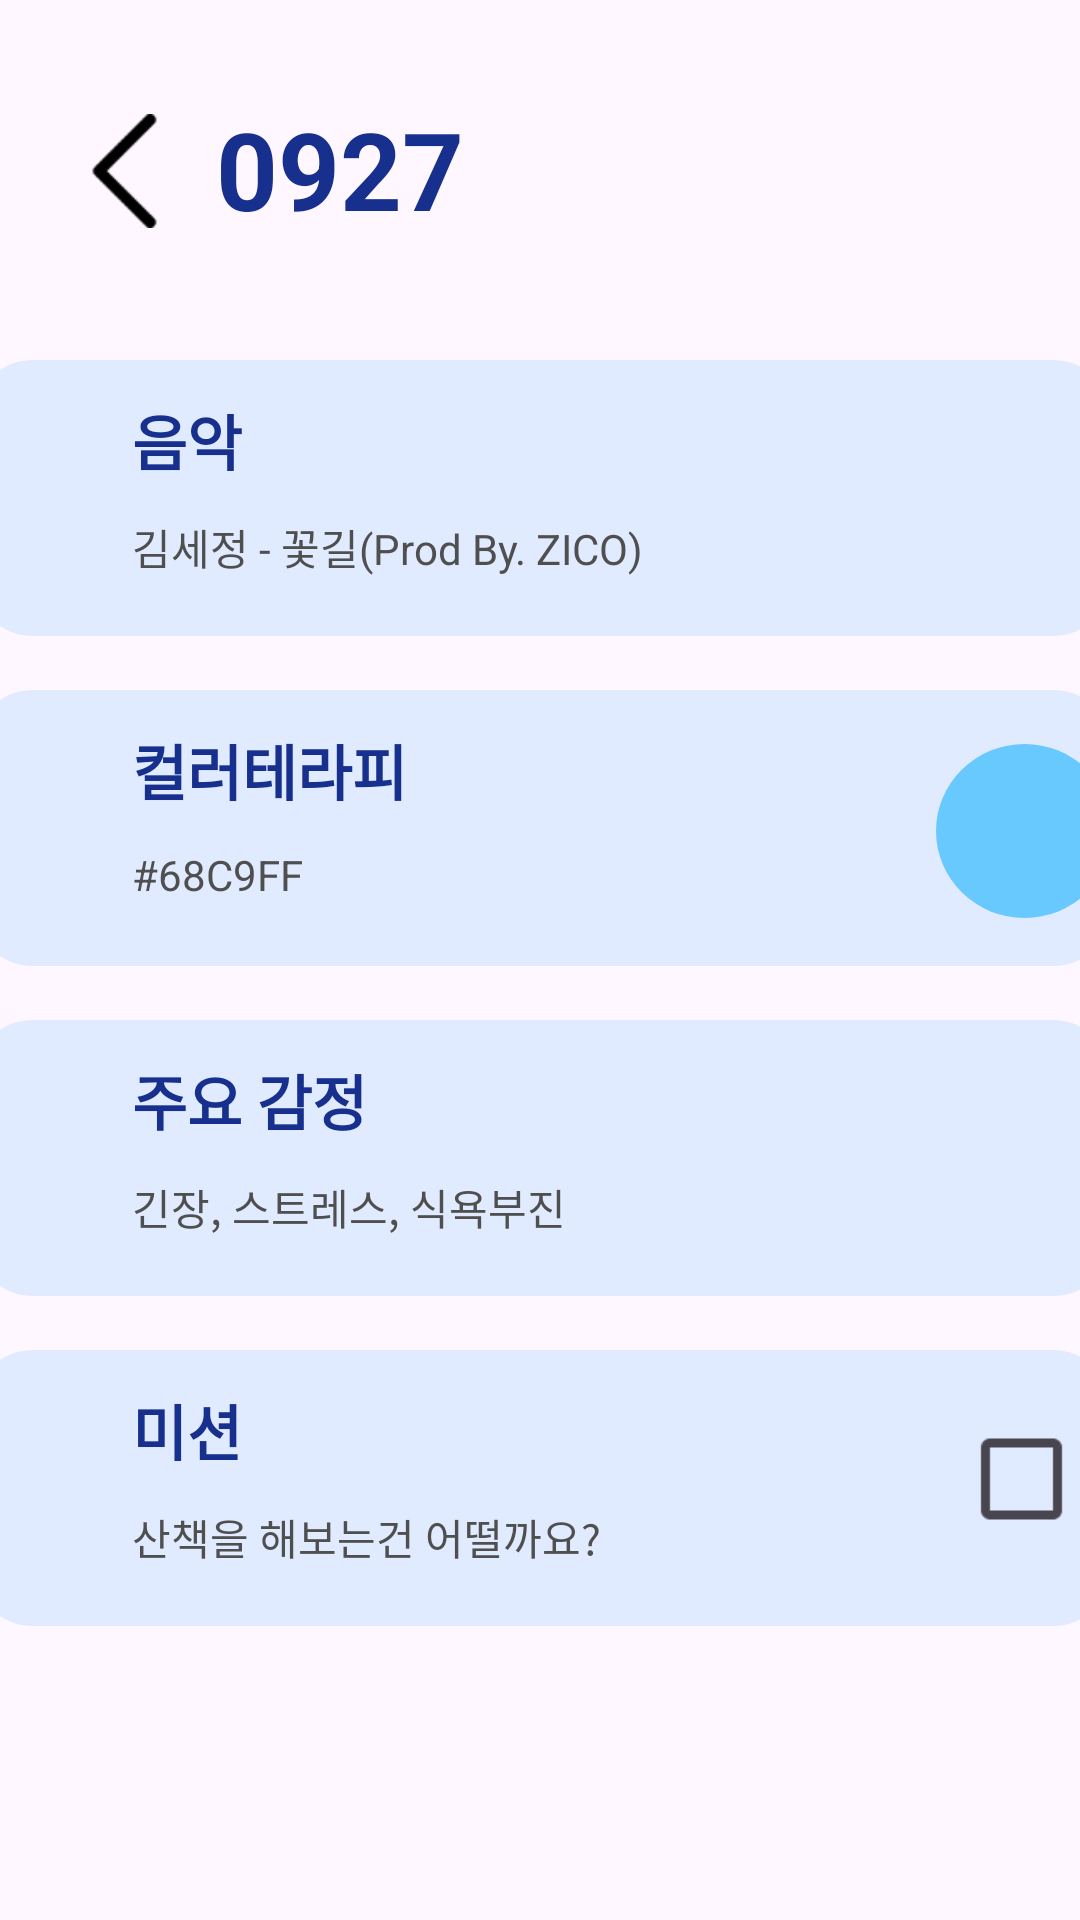

Icons on this 1080px x 1920px Android screen, each with the point to tap as [x,y]:
back: [124,171]
